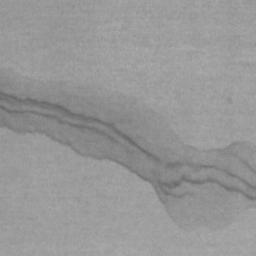Water spot: (0, 64, 256, 234)
